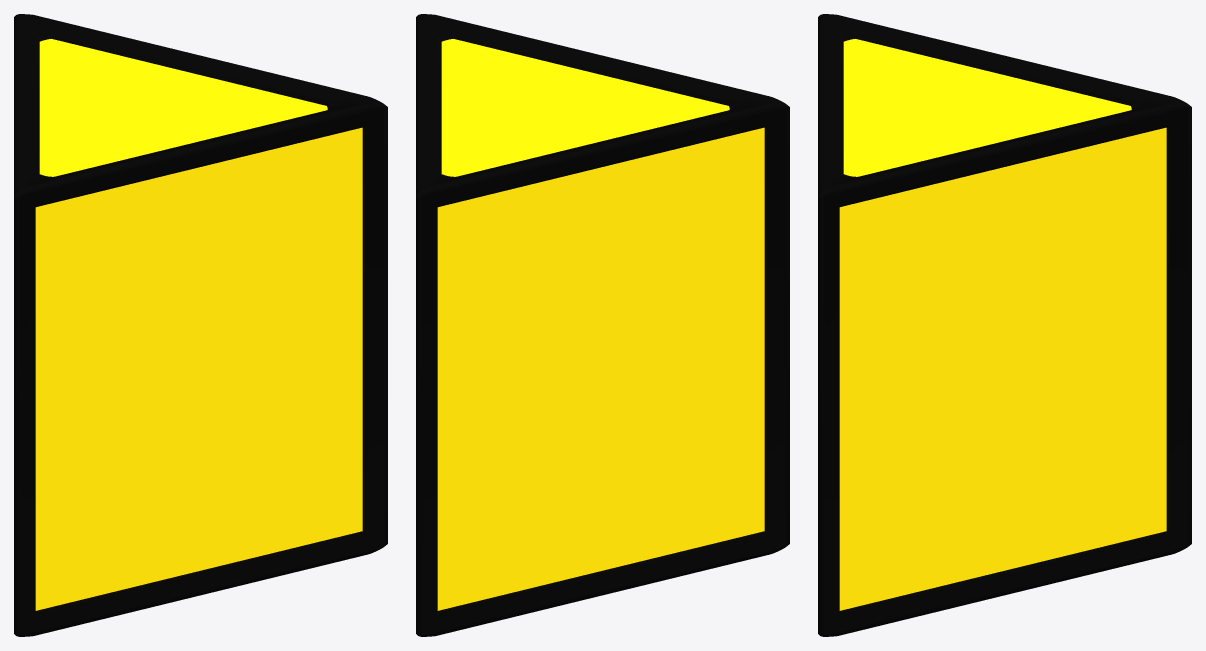
File: Celda_energía.fbx
3 views of the same model, side by side, from view 1: azimuth 30°, elevation 25°; view 2: azimuth 150°, elevation 25°; view 3: azimuth 270°, elevation 25° (orthographic).
Visible parts, largest first — view 1: Cylinder, Cylinder.001; view 2: Cylinder, Cylinder.001; view 3: Cylinder, Cylinder.001.
Boxes of the visible parts, <box> form: Cylinder: <box>35,39,362,610</box>; Cylinder.001: <box>14,14,387,636</box>; Cylinder: <box>437,39,764,610</box>; Cylinder.001: <box>416,14,789,636</box>; Cylinder: <box>839,39,1166,610</box>; Cylinder.001: <box>818,14,1191,636</box>.
Bounding box in the file's own units: 67.57 × 78.01 × 58.63.
